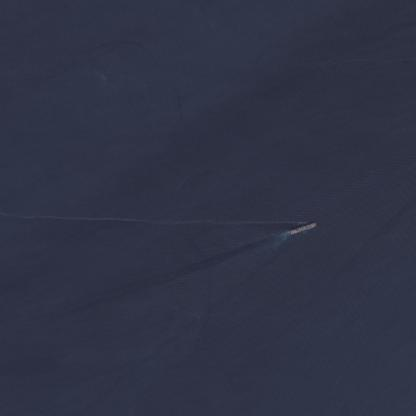ship: (287, 204, 316, 218)
